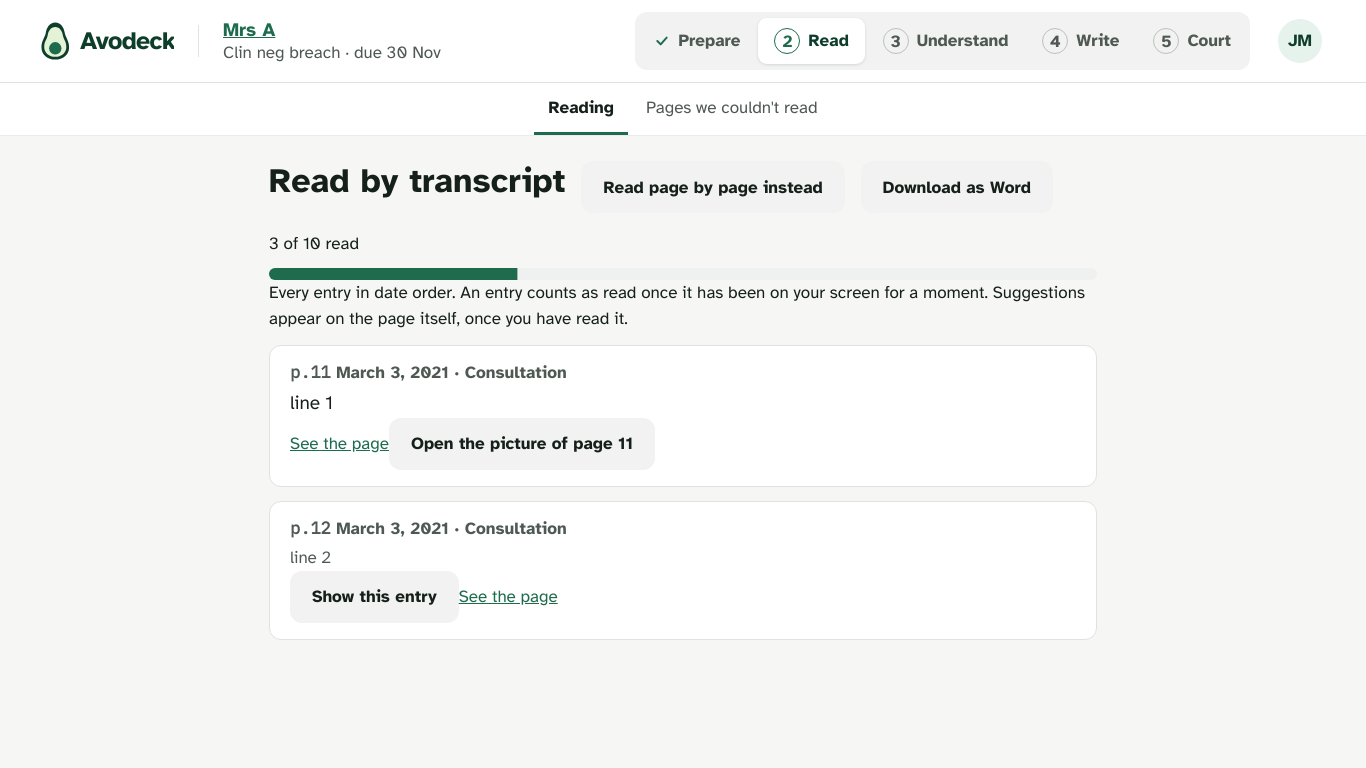
it: Reading by transcript under the launch packs › the Word button asks for the file and saves it
Click the button "Download as Word" at (957, 187), box [861,161,1053,213]
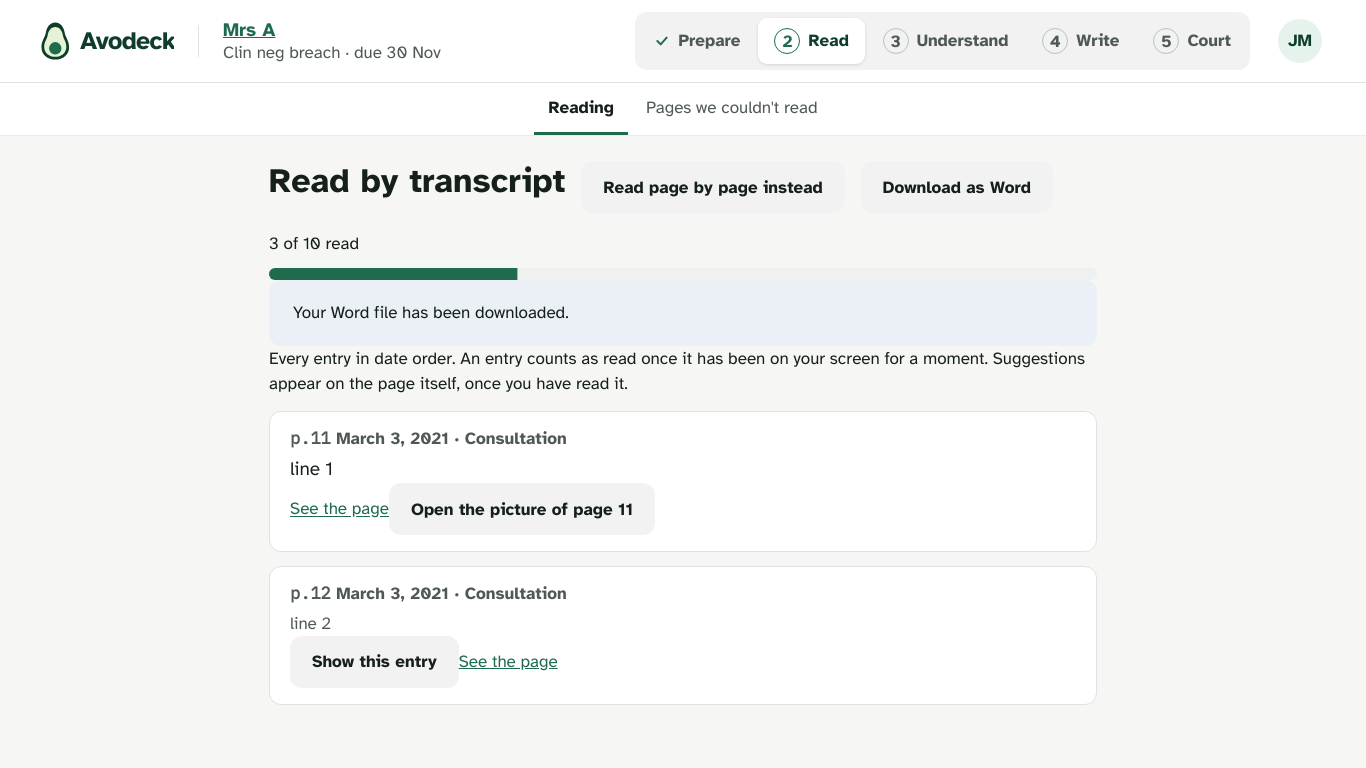
Check: the text "Your Word file has been downloaded." is shown, box [293,302,569,323]
